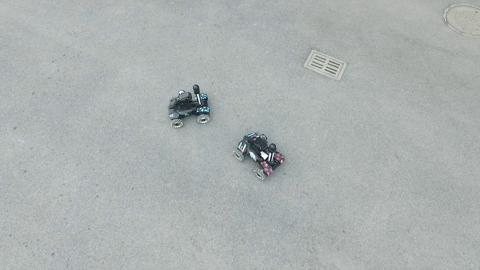chariot: (233, 128, 288, 185), (164, 84, 213, 129)
